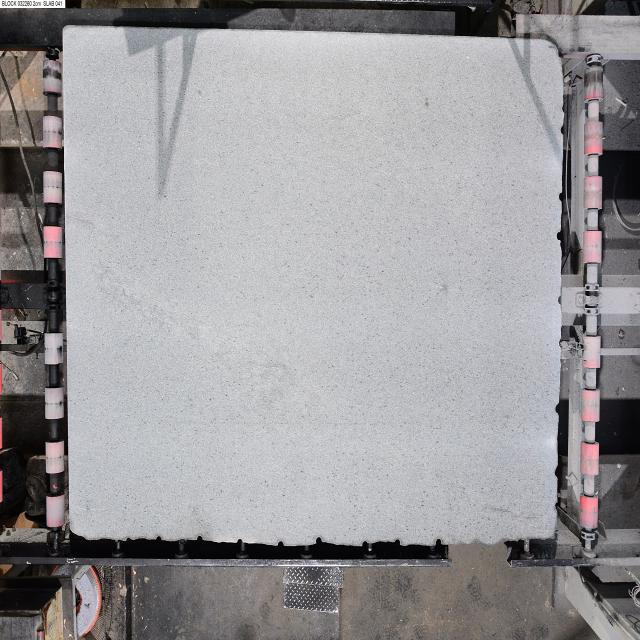chapa: (64, 26, 564, 546)
veio: (236, 536, 245, 546), (278, 539, 286, 550), (155, 534, 163, 544), (316, 536, 323, 546), (363, 538, 369, 546), (195, 536, 202, 542), (434, 537, 440, 544)
